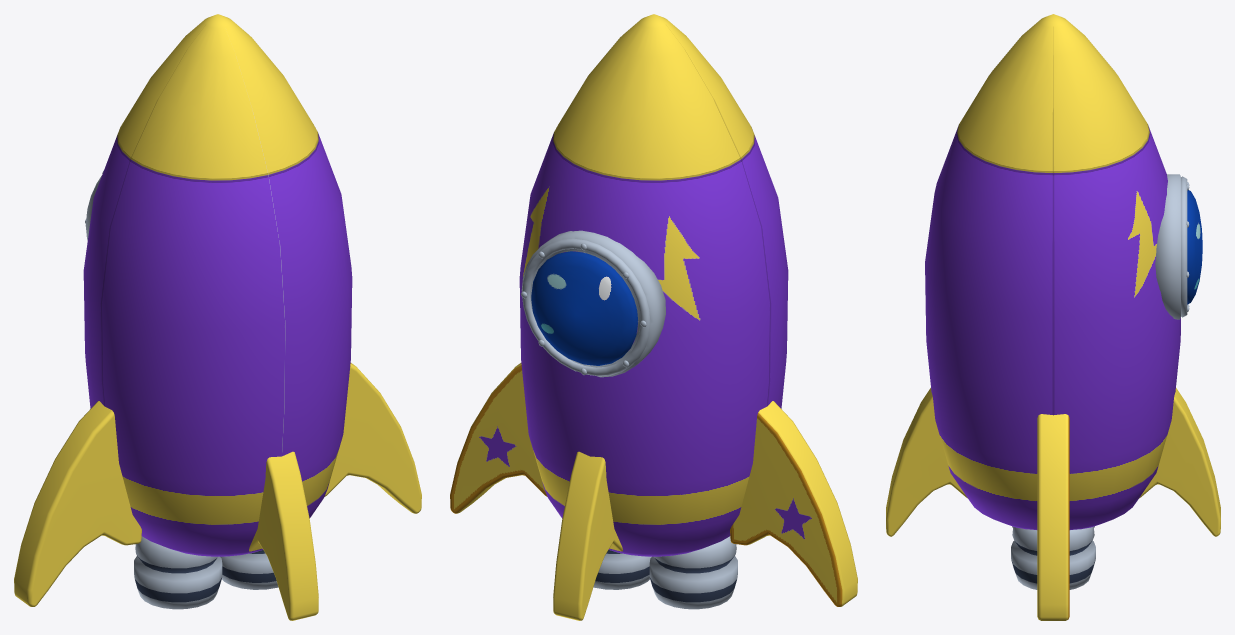
File: rocket_epico.fbx
3 renders of one model, left to right at view 1: azimuth 30°, elevation 25°; view 2: azimuth 150°, elevation 25°; view 3: azimuth 270°, elevation 25°, orthographic. The views are drawn at different scales.
Visible parts, largest first — view 1: Body, Fins, Nozzle; view 2: Body, Fins, Window, Nozzle; view 3: Body, Fins, Nozzle, Window.
Part boxes in pixels (box(x1,y1,x2,y2)): Body: box(83, 14, 352, 556); Fins: box(14, 363, 421, 620); Nozzle: box(134, 536, 278, 609); Body: box(519, 14, 788, 556); Fins: box(450, 363, 857, 620); Window: box(531, 251, 638, 365); Nozzle: box(593, 536, 737, 609); Body: box(925, 14, 1189, 529); Fins: box(886, 388, 1220, 620); Nozzle: box(1011, 526, 1095, 589); Window: box(1187, 190, 1202, 304).
Bounding box in the file's own units: 2.03 × 2.8 × 1.56.
Materials: 3 (3 with a texture image).
